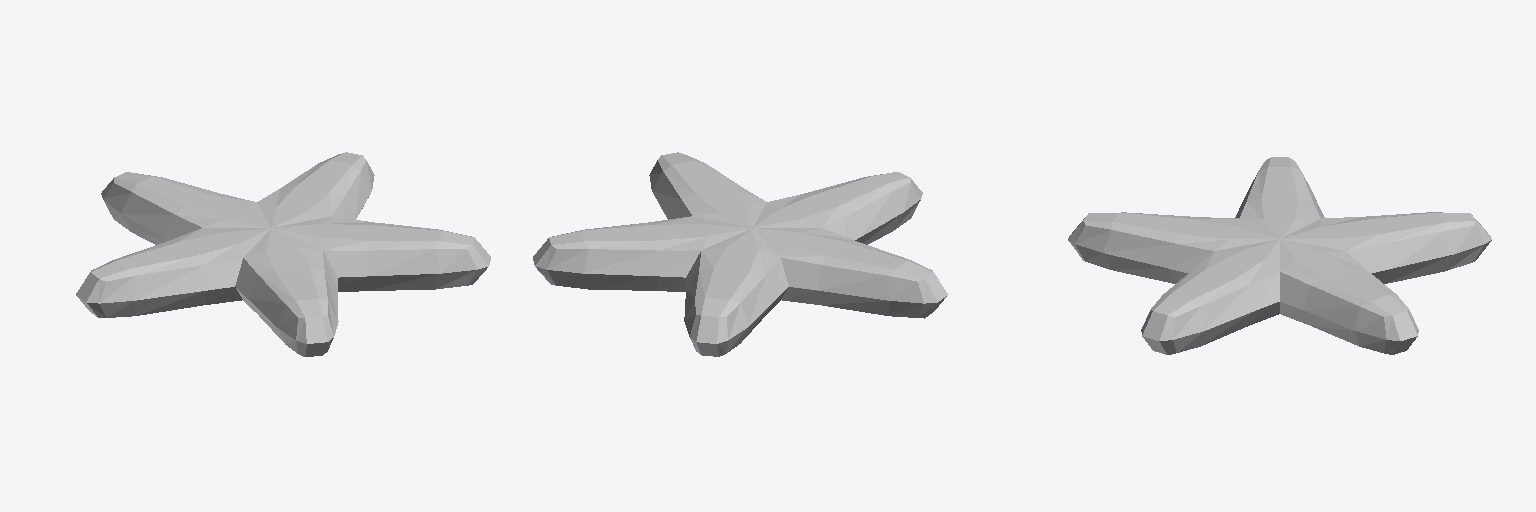
The model's file is Starfish_01_LOD1.obj.
The picture shows the model from 3 angles: view 1: azimuth 30°, elevation 25°; view 2: azimuth 150°, elevation 25°; view 3: azimuth 270°, elevation 25°; orthographic projection.
Visible parts, largest first — view 1: Starfish_01_LOD1_Star.008; view 2: Starfish_01_LOD1_Star.008; view 3: Starfish_01_LOD1_Star.008.
Part boxes in pixels (x1,y1,x2,y2): Starfish_01_LOD1_Star.008: (76,152,490,356); Starfish_01_LOD1_Star.008: (533,152,947,356); Starfish_01_LOD1_Star.008: (1068,157,1491,354).
Bounding box in the file's own units: 4.83 × 0.6383 × 5.08.